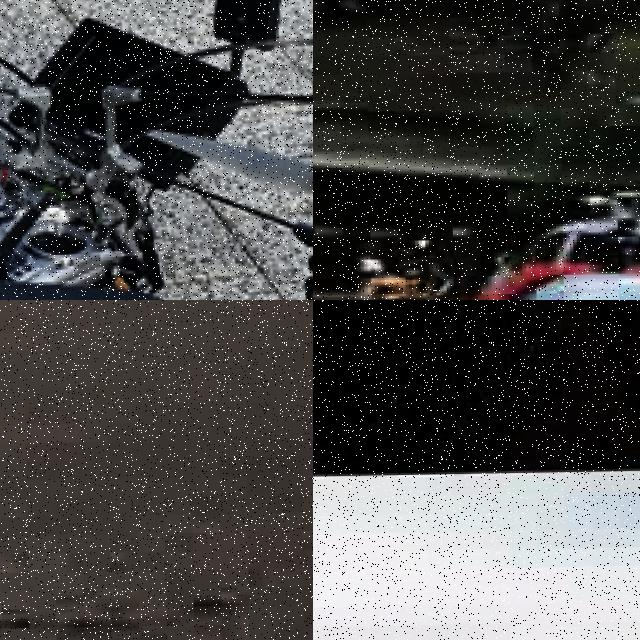drone: (0, 0, 313, 300)
